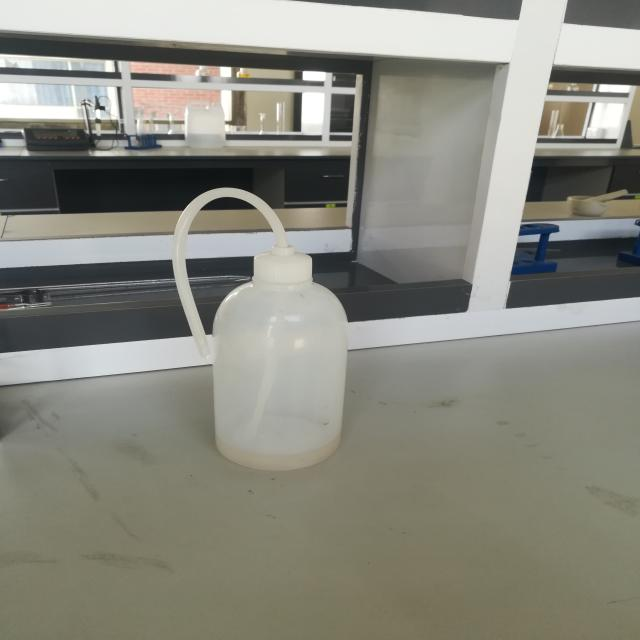Wash_Bottle: (145, 152, 392, 496)
